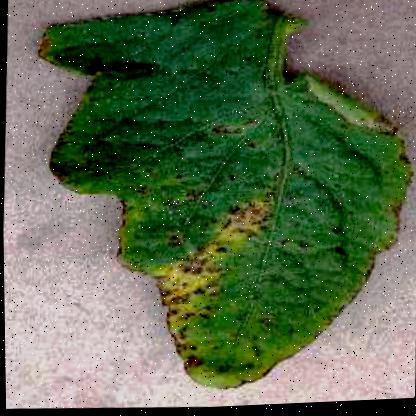BACTERIAL SPOT: (20, 0, 415, 409)
